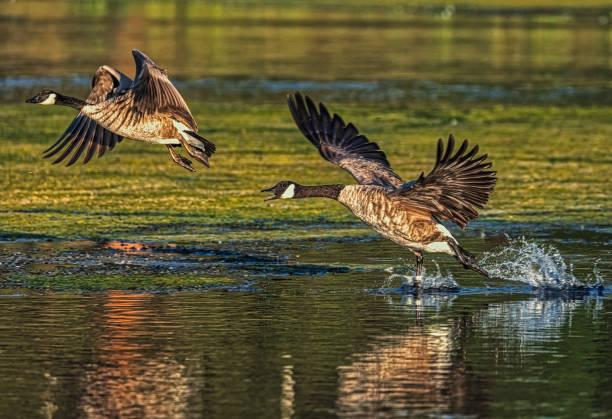Canadian-Goose: (260, 90, 496, 281), (27, 48, 213, 179)
